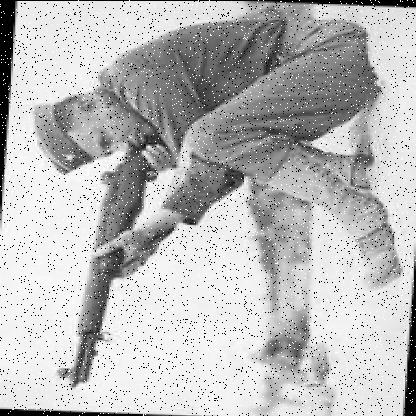rifle: (48, 128, 176, 394)
